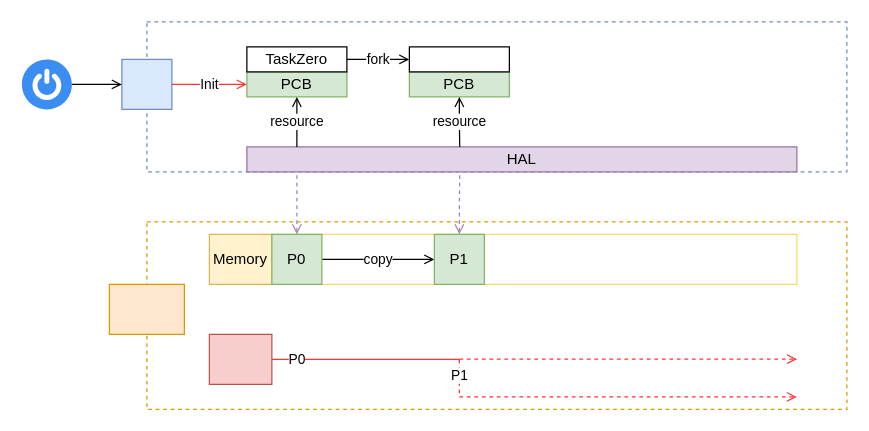
Image size: 869x431. Some labels were removed from this diagram. The box of each missing label's shape, as (x1, y1, x2, y2) in pixels:
CPU: (208, 333, 272, 384)
Hardware: (108, 283, 184, 334)
OS: (121, 58, 172, 109)
Task A: (408, 46, 509, 72)
